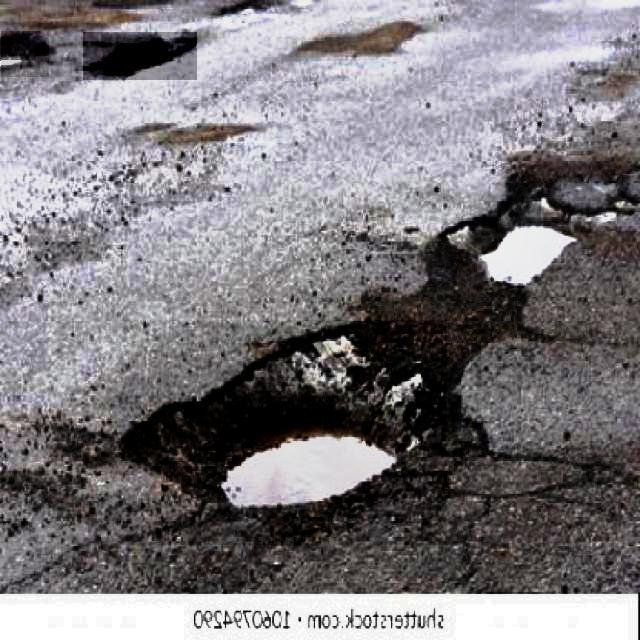pothole: (119, 320, 447, 545), (434, 162, 620, 300), (83, 32, 197, 80), (1, 32, 49, 78)
